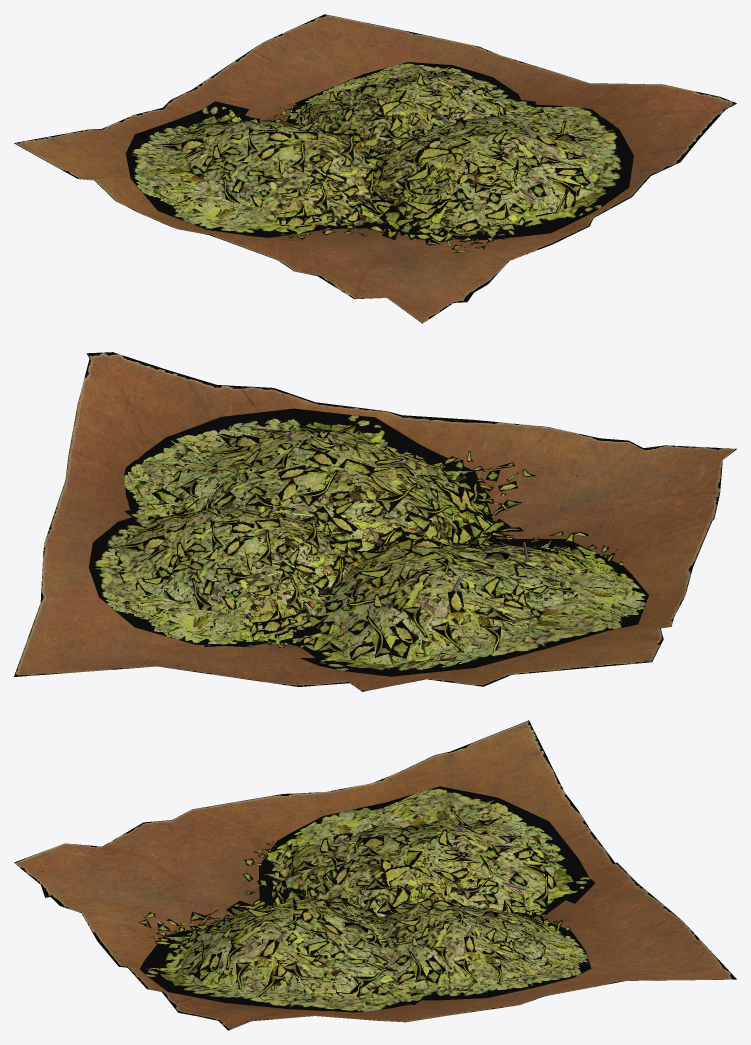
File: sm70_008_herbsggg01a.fbx
3 renders of one model, top to bottom at view 1: azimuth 30°, elevation 25°; view 2: azimuth 150°, elevation 25°; view 3: azimuth 270°, elevation 25°, orthographic. The views are drawn at different scales.
Visible parts, largest first — view 1: LOD_1_Group_0_Sub_1__sm70_004_HerbsGG01A_Mat__Env_AlphaTest1, LOD_1_Group_2_Sub_1__sm70_004_HerbsGG01A_Mat__Env_AlphaTest1, LOD_1_Group_1_Sub_1__sm70_004_HerbsGG01A_Mat__Env_AlphaTest1, LOD_1_Group_7_Sub_1__sm70_004_HerbsGG01A_Mat__Env_AlphaTest1; view 2: LOD_1_Group_0_Sub_1__sm70_004_HerbsGG01A_Mat__Env_AlphaTest1, LOD_1_Group_2_Sub_1__sm70_004_HerbsGG01A_Mat__Env_AlphaTest1, LOD_1_Group_1_Sub_1__sm70_004_HerbsGG01A_Mat__Env_AlphaTest1, LOD_1_Group_7_Sub_1__sm70_004_HerbsGG01A_Mat__Env_AlphaTest1; view 3: LOD_1_Group_0_Sub_1__sm70_004_HerbsGG01A_Mat__Env_AlphaTest1, LOD_1_Group_1_Sub_1__sm70_004_HerbsGG01A_Mat__Env_AlphaTest1, LOD_1_Group_2_Sub_1__sm70_004_HerbsGG01A_Mat__Env_AlphaTest1, LOD_1_Group_7_Sub_1__sm70_004_HerbsGG01A_Mat__Env_AlphaTest1.
Boxes of the visible parts, x1,y1,x2,y2 form: LOD_1_Group_0_Sub_1__sm70_004_HerbsGG01A_Mat__Env_AlphaTest1: (14,14,736,323); LOD_1_Group_2_Sub_1__sm70_004_HerbsGG01A_Mat__Env_AlphaTest1: (329,97,633,252); LOD_1_Group_1_Sub_1__sm70_004_HerbsGG01A_Mat__Env_AlphaTest1: (125,101,400,239); LOD_1_Group_7_Sub_1__sm70_004_HerbsGG01A_Mat__Env_AlphaTest1: (274,62,520,159); LOD_1_Group_0_Sub_1__sm70_004_HerbsGG01A_Mat__Env_AlphaTest1: (14,352,736,691); LOD_1_Group_2_Sub_1__sm70_004_HerbsGG01A_Mat__Env_AlphaTest1: (124,408,535,551); LOD_1_Group_1_Sub_1__sm70_004_HerbsGG01A_Mat__Env_AlphaTest1: (281,531,648,676); LOD_1_Group_7_Sub_1__sm70_004_HerbsGG01A_Mat__Env_AlphaTest1: (88,498,400,647); LOD_1_Group_0_Sub_1__sm70_004_HerbsGG01A_Mat__Env_AlphaTest1: (14,720,736,1030); LOD_1_Group_1_Sub_1__sm70_004_HerbsGG01A_Mat__Env_AlphaTest1: (243,786,595,918); LOD_1_Group_2_Sub_1__sm70_004_HerbsGG01A_Mat__Env_AlphaTest1: (138,869,441,1012); LOD_1_Group_7_Sub_1__sm70_004_HerbsGG01A_Mat__Env_AlphaTest1: (364,880,591,1000).
Bounding box in the file's own units: 0.2906 × 0.0321 × 0.2875.
